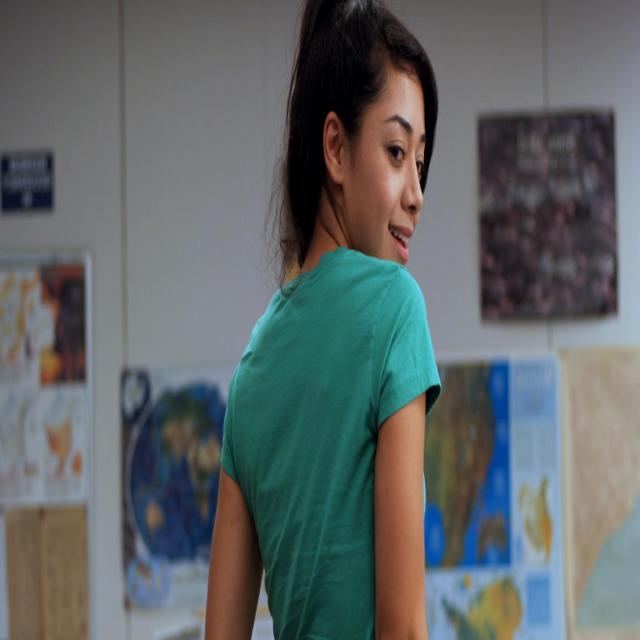no-earmuff: (316, 96, 352, 194)
